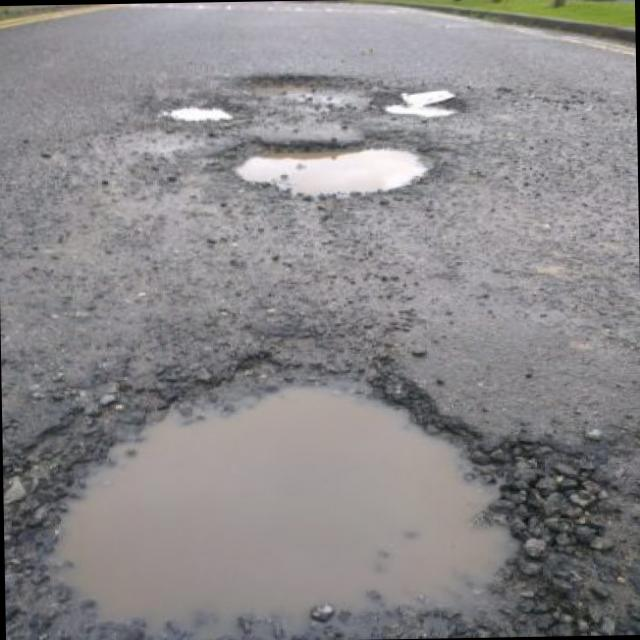Potholes: (53, 324, 582, 640), (230, 127, 478, 231), (226, 62, 386, 124), (123, 82, 250, 138), (358, 85, 479, 128)
